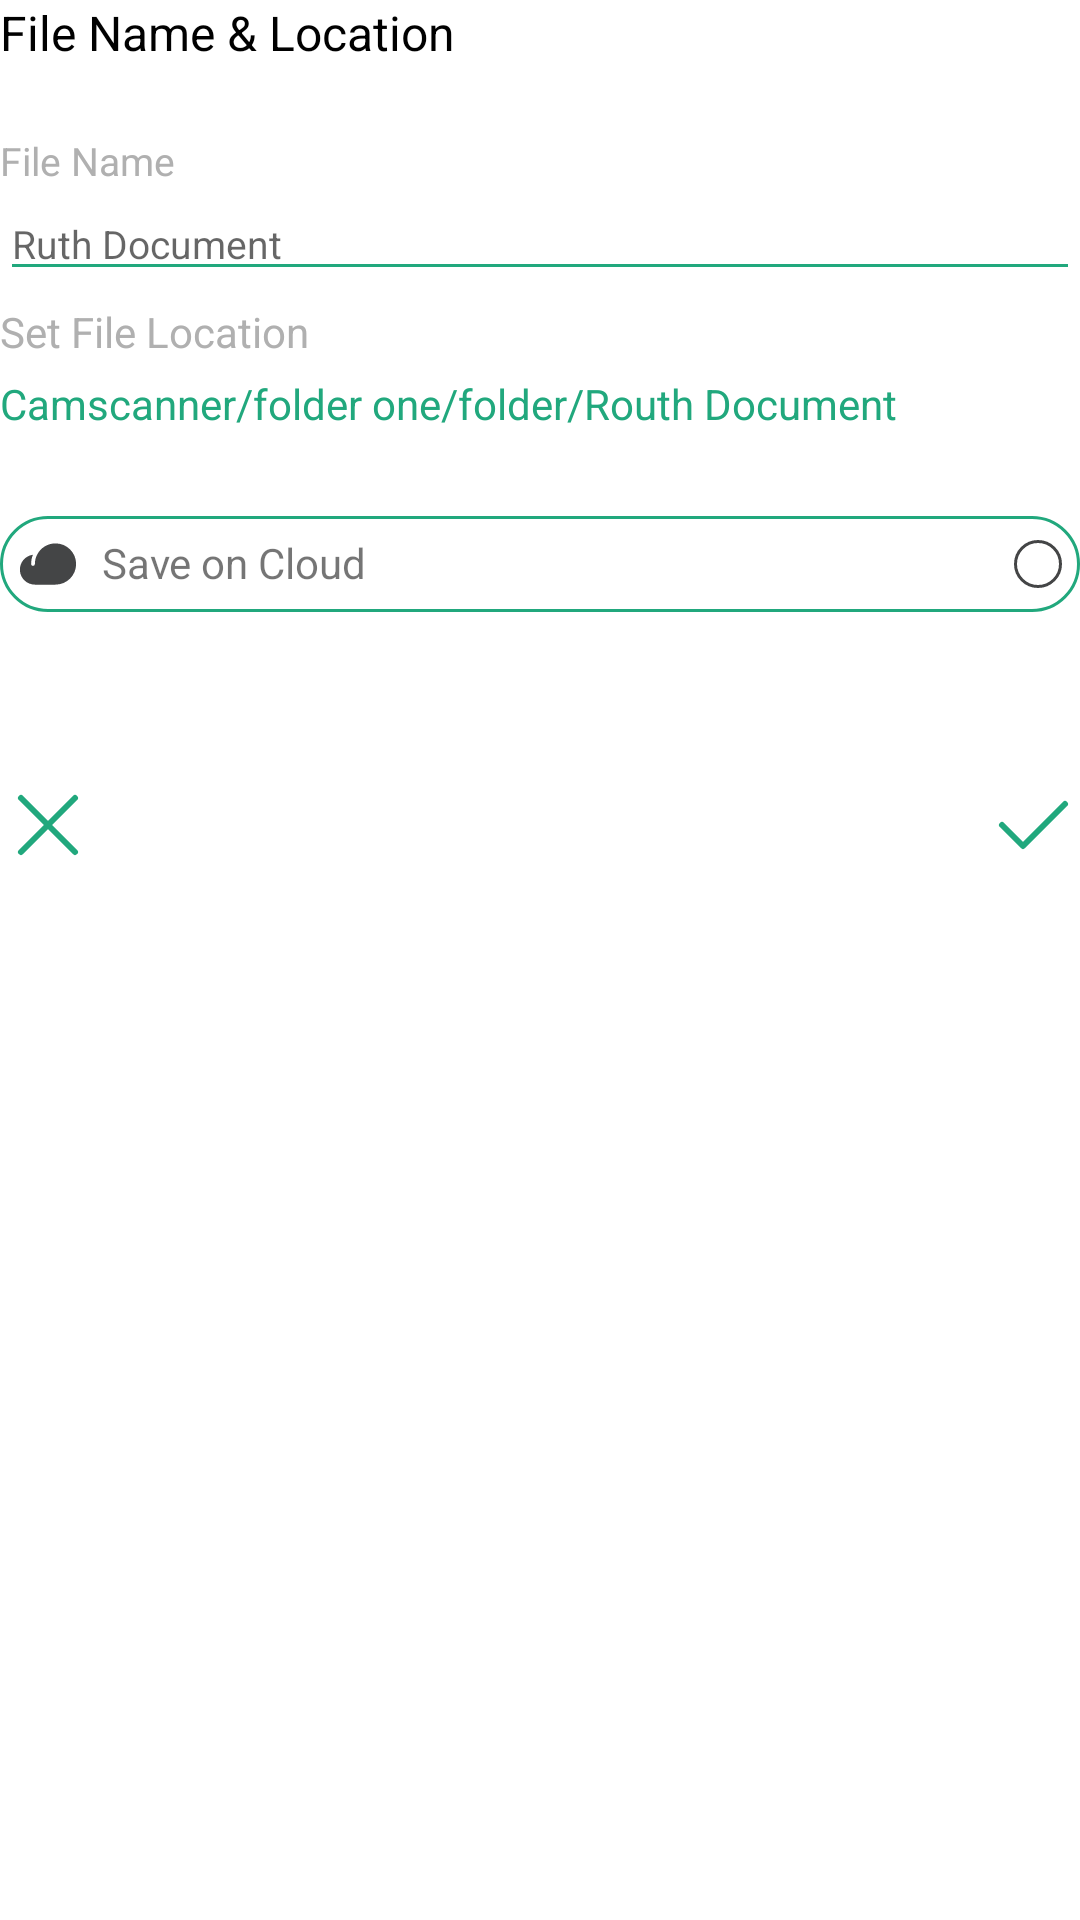

Point at icon controls on the screen. Image size 1080 x 1920, points as [x,y].
circle: [1038,564]
cross: [48,824]
tick: [1033,824]
